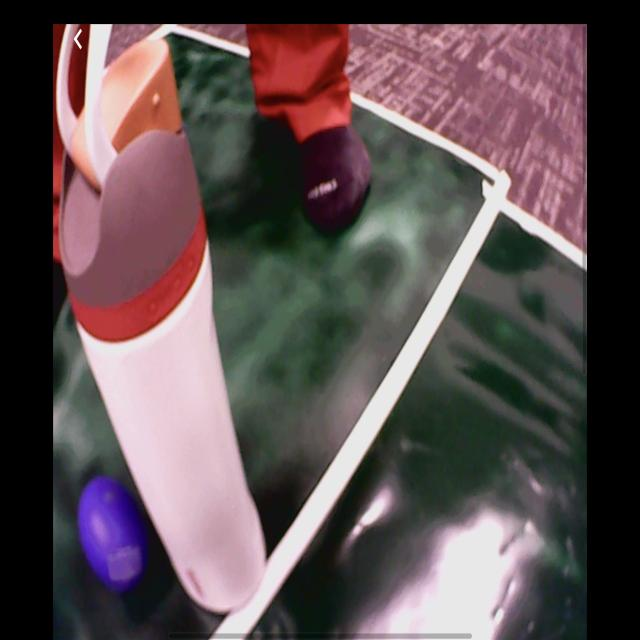ball: (77, 473, 147, 588)
